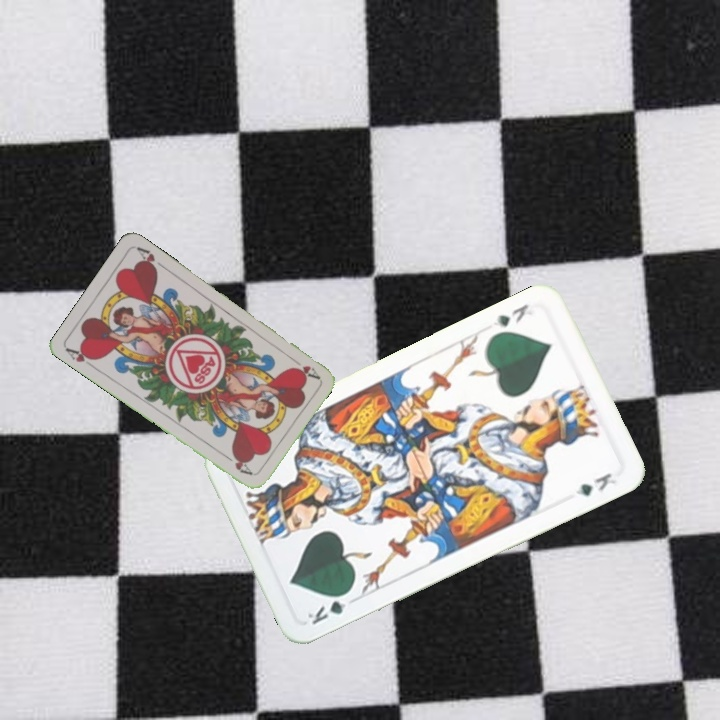GK: (303, 587, 359, 628), (489, 300, 531, 330)
HA: (286, 353, 322, 382), (62, 344, 99, 372)
